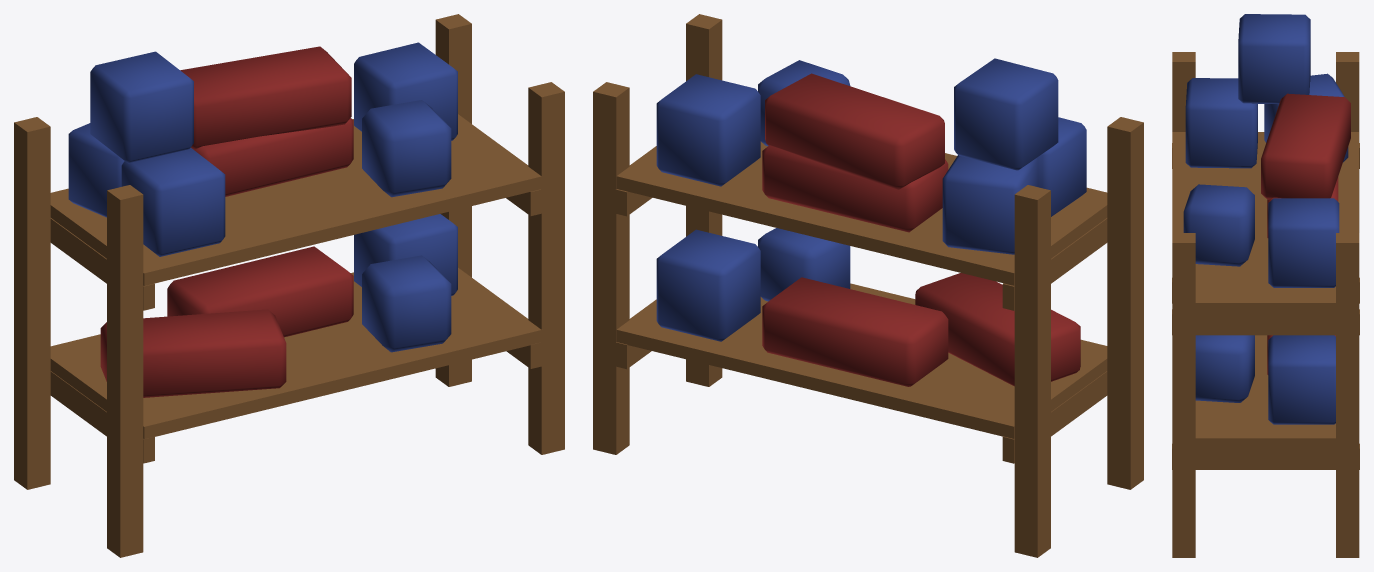
Rendered from Shelf02.fbx.
3 views of the same model, side by side, from view 1: azimuth 30°, elevation 25°; view 2: azimuth 150°, elevation 25°; view 3: azimuth 270°, elevation 25° (orthographic). The views are drawn at different scales.
Visible parts, largest first — view 1: Cube.015; view 2: Cube.015; view 3: Cube.015.
Boxes of the visible parts, x1=… form: Cube.015: x1=14, y1=14, x2=564, y2=557; Cube.015: x1=593, y1=14, x2=1143, y2=557; Cube.015: x1=1172, y1=14, x2=1359, y2=557.
Bounding box in the file's own units: 854 × 780 × 355.
